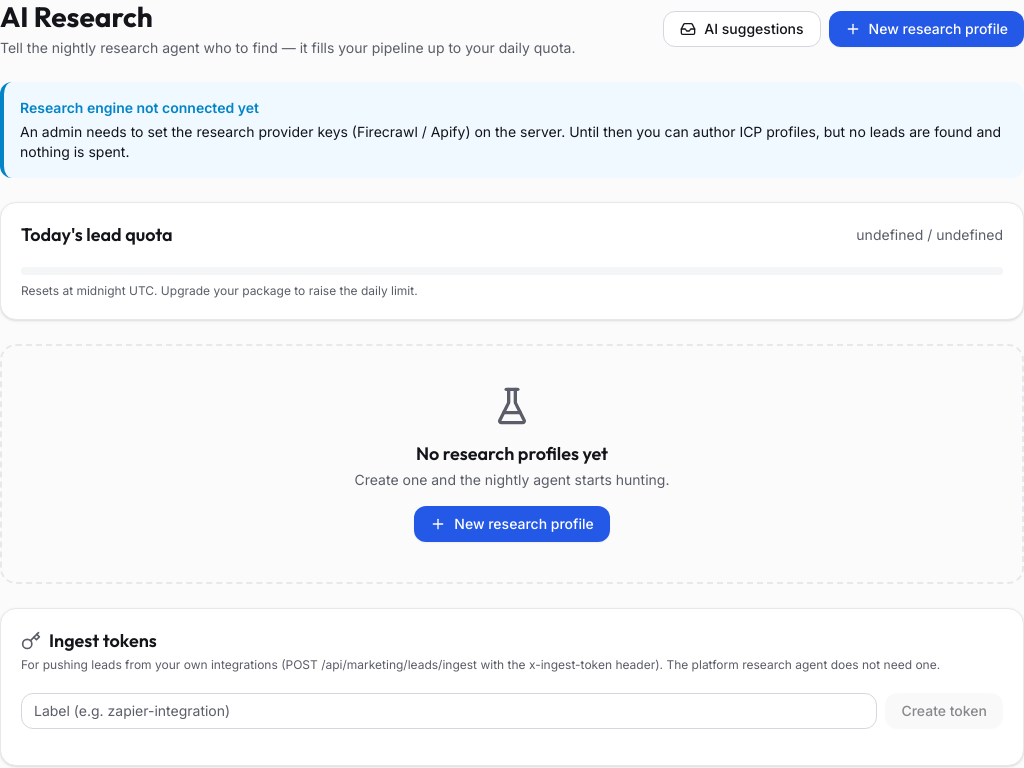
Test: ResearchSettingsPage › shows validation error on short ICP description
Step 1. Click the button "New research profile" next to "AI suggestions" → point(926, 29), box [829,11,1023,47]
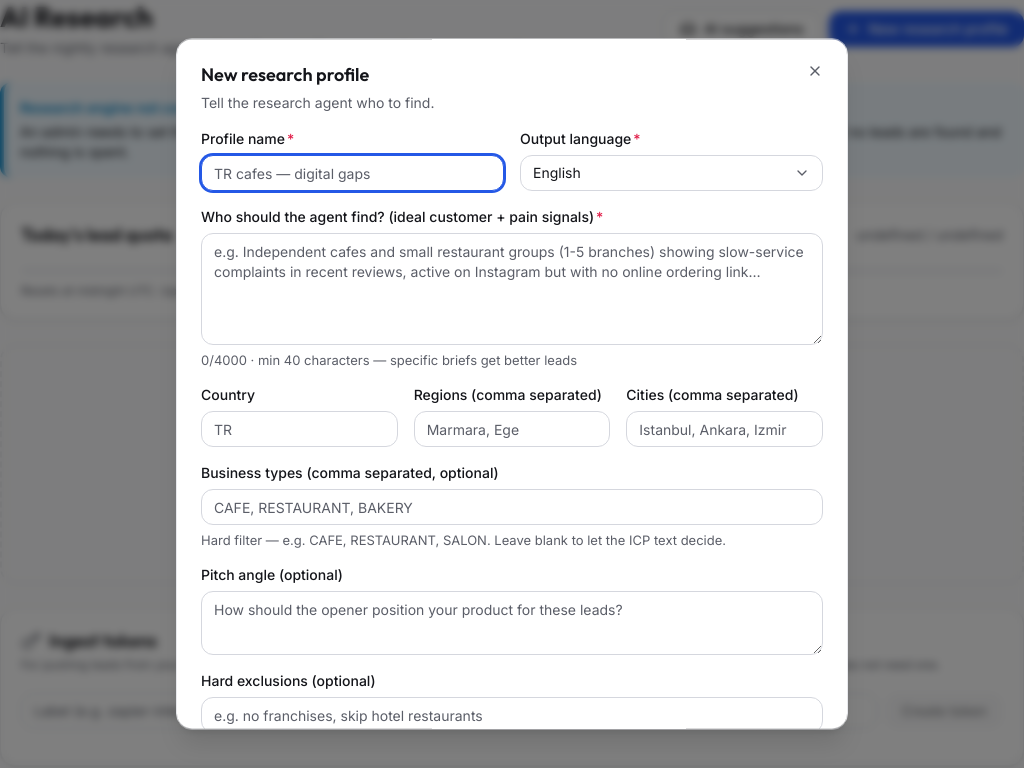
# Fill name but leave icpDescription too short
Step 2. Type "Test profile" into the field with placeholder "TR cafes — digital gaps" → point(352, 173), box [201,155,504,191]
(page scrolled)
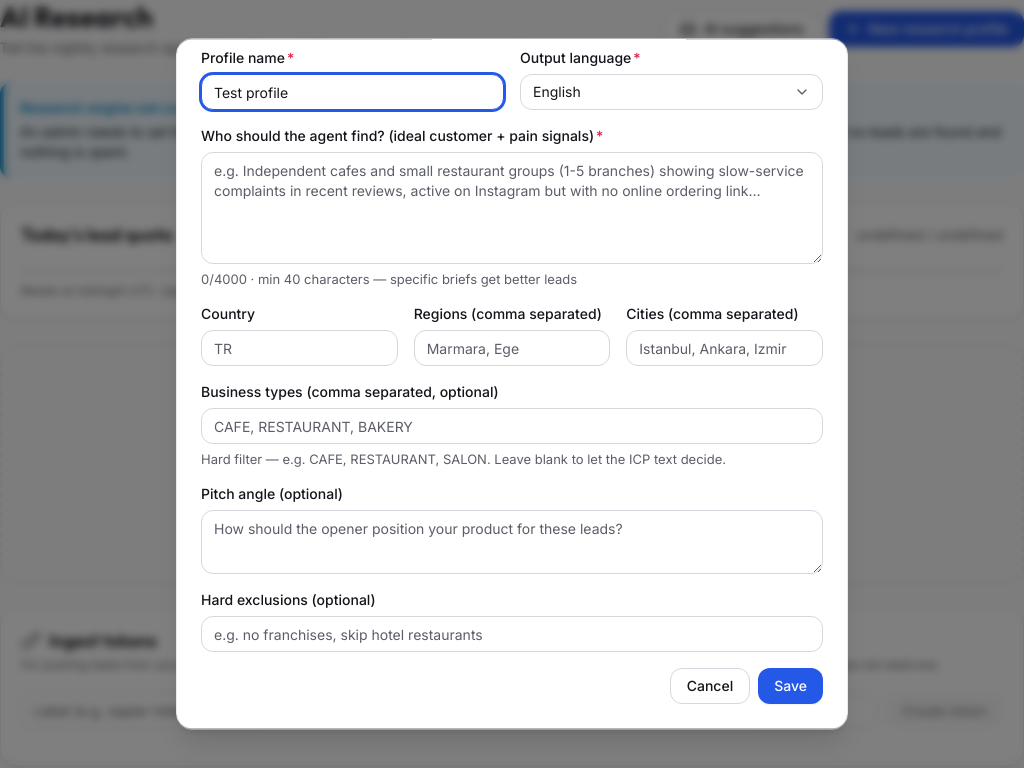
Step 3. Click the button "Save" → point(791, 686), box [758,668,823,704]
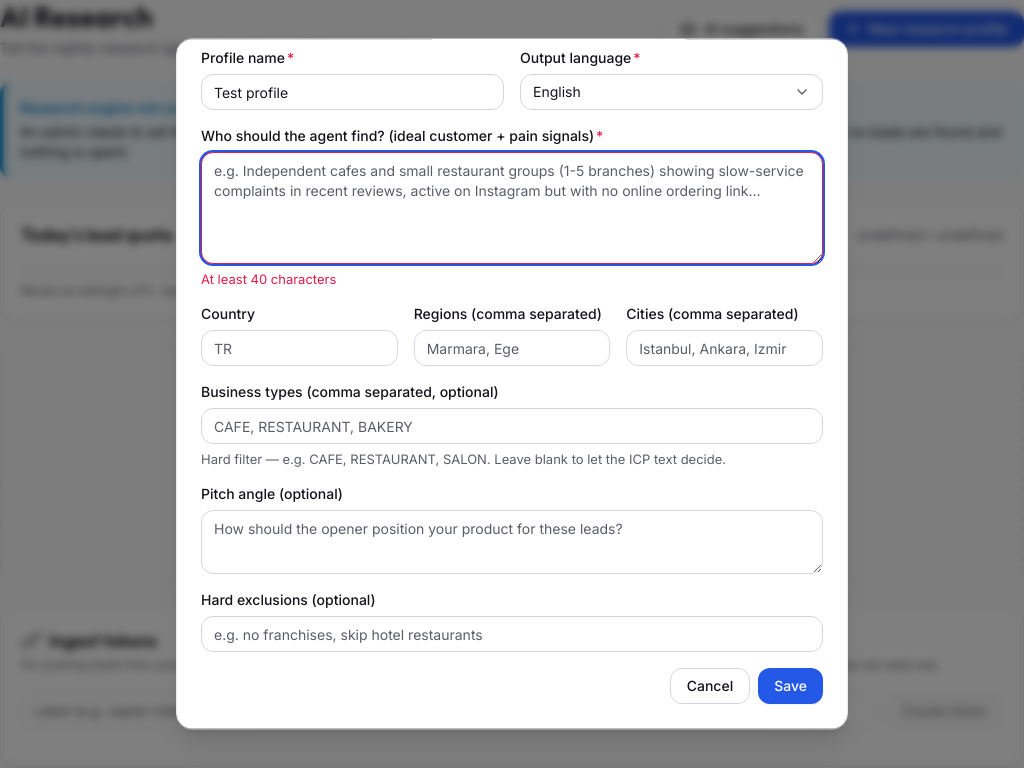
Check: the message "At least 40 characters" is shown, box [201,271,336,287]
